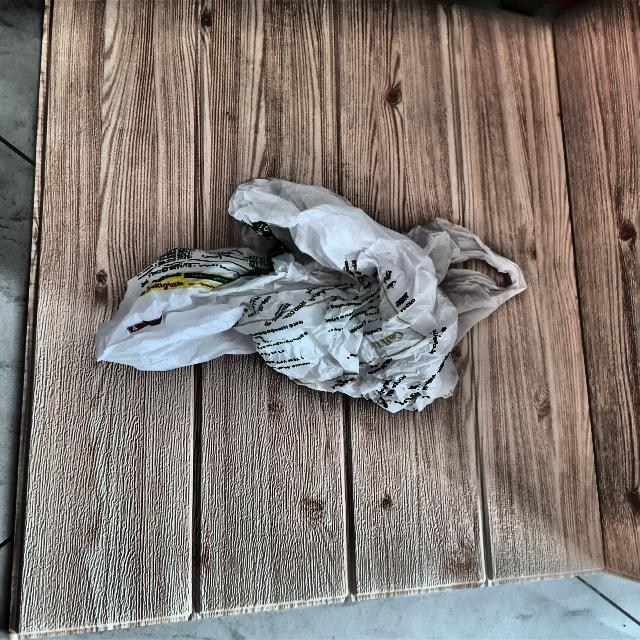plastic bag: (100, 188, 543, 410)
